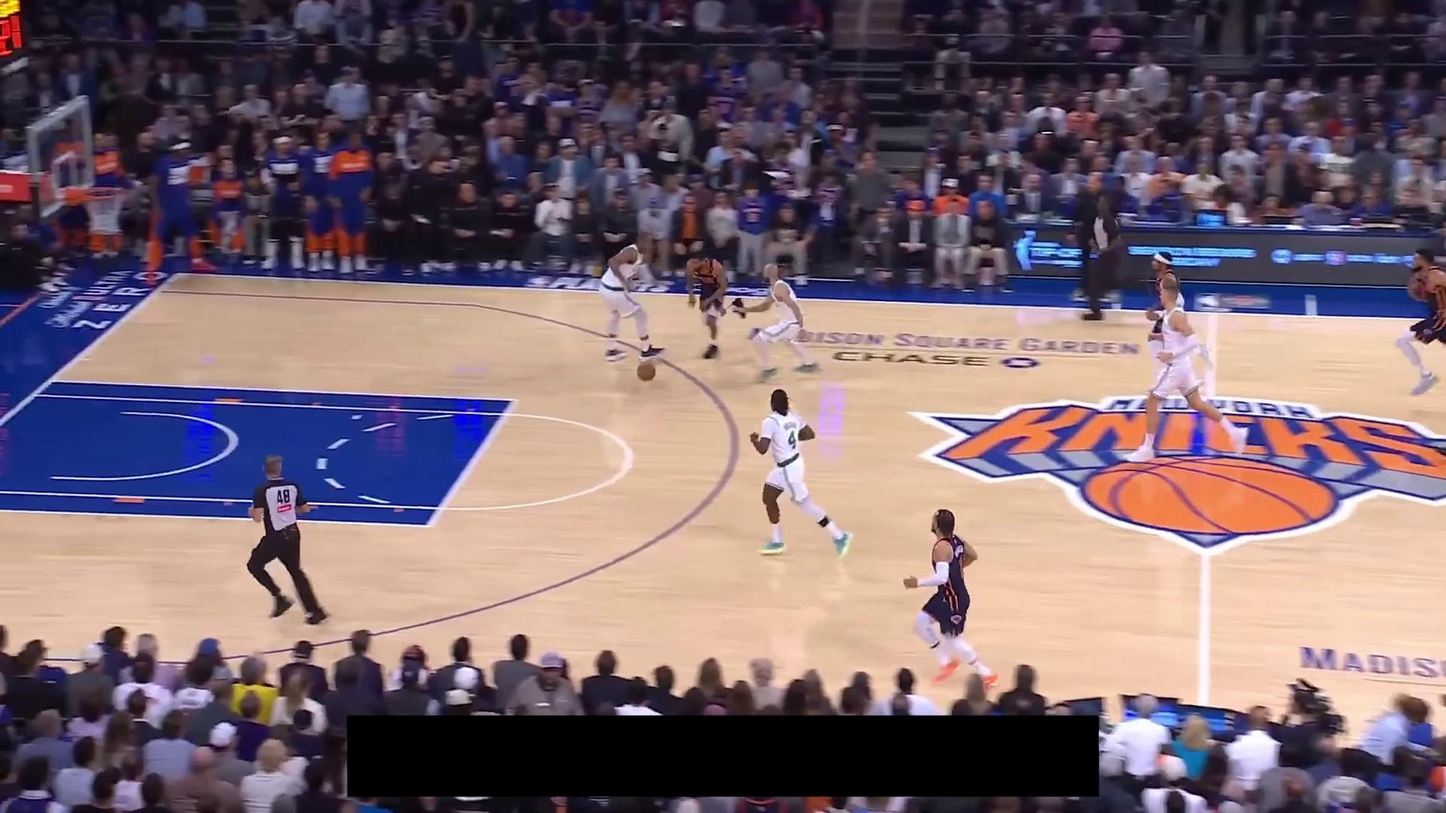ball: (635, 361, 657, 382)
number: (787, 429, 797, 449)
player: (1124, 288, 1249, 465), (901, 506, 1002, 692), (749, 385, 853, 559), (730, 259, 823, 385), (594, 230, 672, 372), (1145, 250, 1216, 397), (1393, 246, 1445, 397), (682, 250, 747, 361)
referee: (245, 452, 329, 626), (1071, 195, 1136, 322)
rim: (84, 184, 126, 200)
